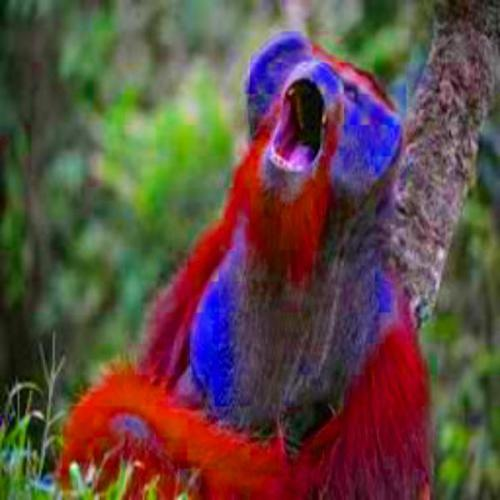orangutan-endangered: (72, 26, 429, 498)
